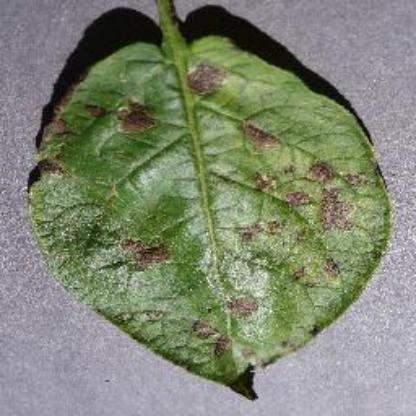Early-Blight: (24, 0, 400, 402)
